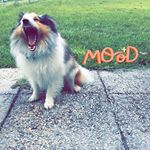puppy: (6, 8, 97, 110)
